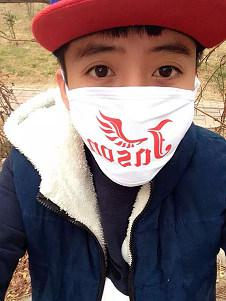OK: (64, 38, 200, 174)
